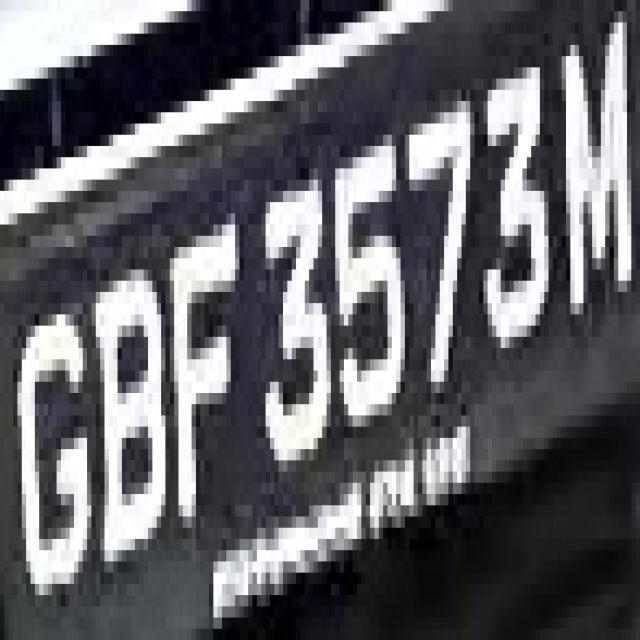3: (248, 146, 327, 494), (474, 67, 553, 370)
5: (331, 123, 409, 438)
7: (383, 101, 483, 427)
B: (96, 247, 161, 595)
F: (170, 180, 248, 584)
G: (26, 269, 105, 640)
M: (553, 22, 640, 337)
